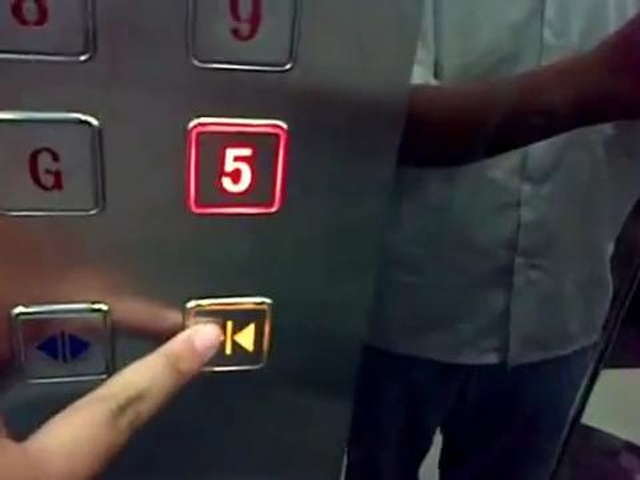5: (182, 114, 291, 220)
9: (184, 1, 302, 75)
G: (1, 107, 108, 220)
close: (181, 292, 275, 375)
open: (3, 298, 114, 388)
